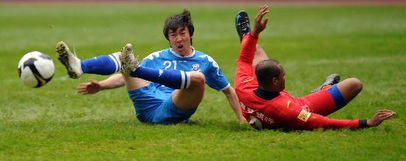fall: (221, 2, 398, 136)
